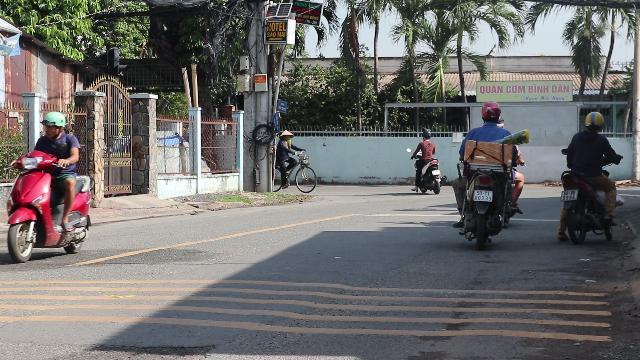helmet: (40, 110, 66, 138), (479, 102, 501, 124), (582, 111, 604, 131)
licenseplate: (473, 190, 492, 202), (561, 190, 577, 200)
motorcyclist: (1, 110, 95, 262), (449, 100, 525, 248), (554, 111, 622, 243)
